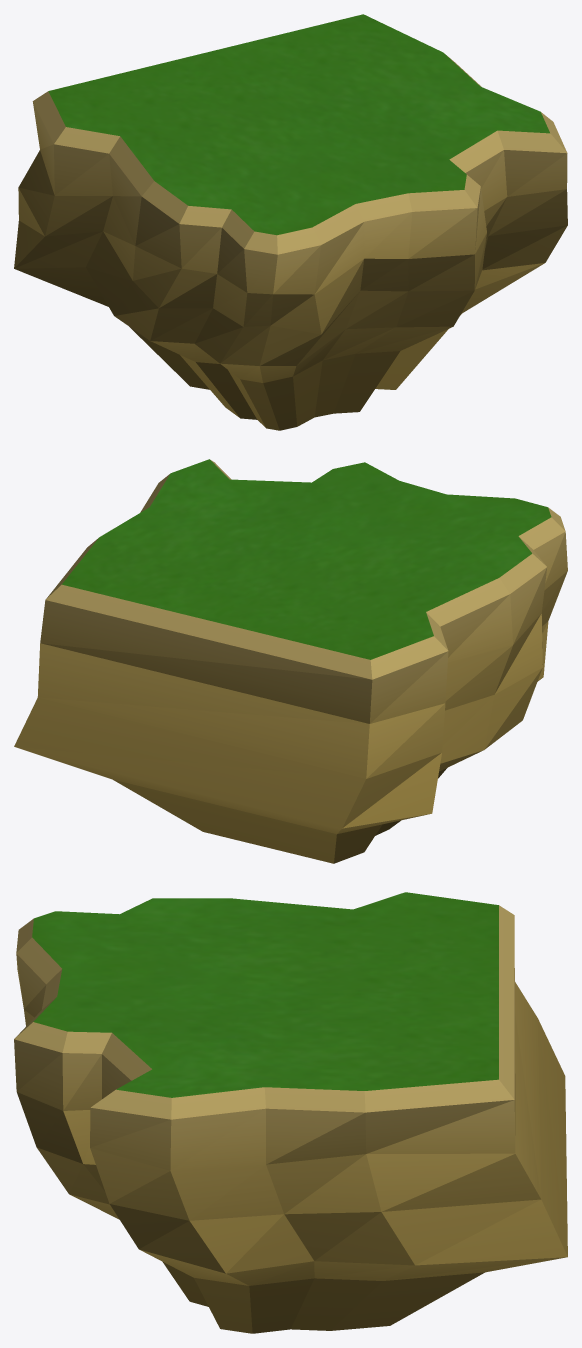
The model's file is PlatformGround_01.FBX.
The picture shows the model from 3 angles, top to bottom: view 1: azimuth 30°, elevation 25°; view 2: azimuth 150°, elevation 25°; view 3: azimuth 270°, elevation 25°; orthographic projection. The views are drawn at different scales.
Visible parts, largest first — view 1: basic ground003; view 2: basic ground003; view 3: basic ground003.
Boxes of the visible parts, <box> form: basic ground003: <box>14,14,567,430</box>; basic ground003: <box>14,459,567,863</box>; basic ground003: <box>14,892,567,1333</box>.
Bounding box in the file's own units: 170 × 103 × 173.
